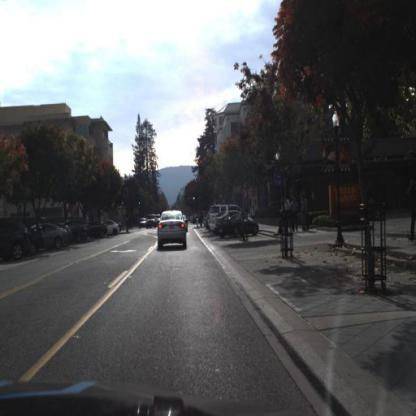car: (1, 216, 34, 266), (23, 220, 72, 250), (156, 209, 190, 252), (216, 208, 263, 238), (60, 216, 92, 249), (209, 204, 244, 234), (44, 221, 73, 251), (29, 222, 47, 262), (81, 216, 109, 239), (102, 219, 120, 239)
pedestrian: (407, 169, 416, 242), (290, 195, 302, 235), (300, 194, 310, 234), (284, 194, 292, 233), (291, 195, 299, 233)
trafficLight-Green: (193, 192, 198, 205)
